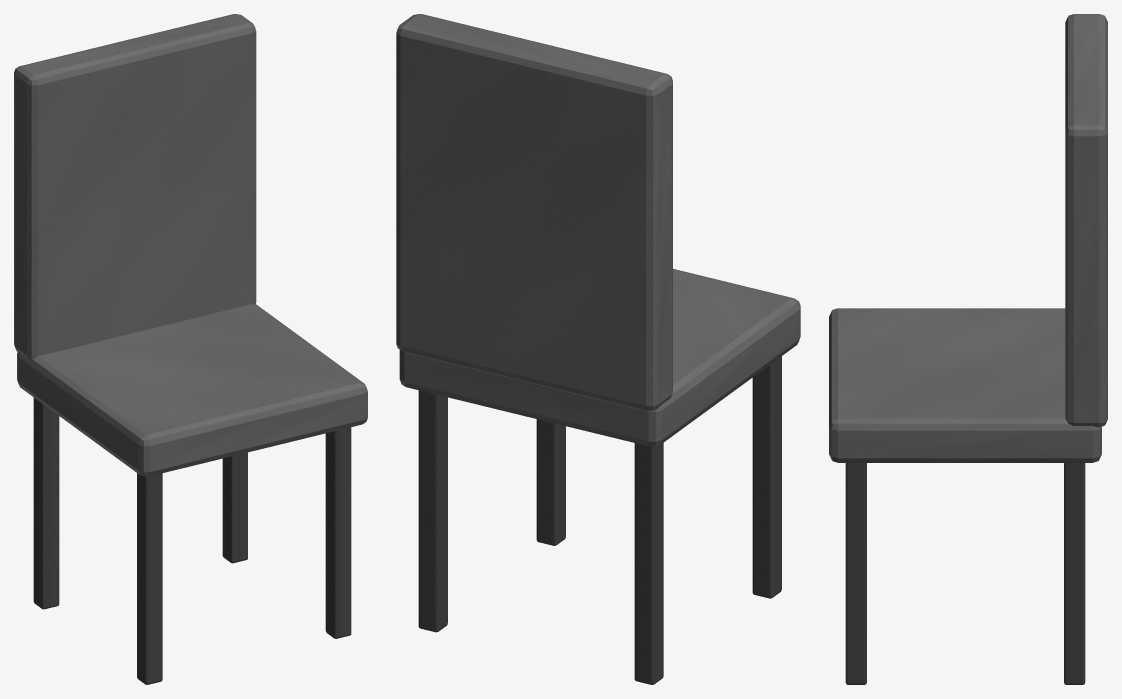
The model's file is briefing_chair.glb.
The picture shows the model from 3 angles, left to right: view 1: azimuth 30°, elevation 25°; view 2: azimuth 150°, elevation 25°; view 3: azimuth 270°, elevation 25°; orthographic projection. The views are drawn at different scales.
Visible parts, largest first — view 1: back.001, seat.001, leg.010, leg.009, leg.008, leg.011; view 2: back.001, seat.001, leg.009, leg.011, leg.008, leg.010; view 3: seat.001, back.001, leg.010, leg.011.
Boxes of the visible parts, bbox=[...] form: back.001: bbox=[14, 14, 256, 358]; seat.001: bbox=[17, 304, 367, 476]; leg.010: bbox=[325, 427, 351, 638]; leg.009: bbox=[33, 397, 59, 609]; leg.008: bbox=[137, 473, 162, 684]; leg.011: bbox=[222, 452, 247, 563]; back.001: bbox=[396, 14, 672, 410]; seat.001: bbox=[399, 269, 800, 446]; leg.009: bbox=[634, 443, 663, 684]; leg.011: bbox=[418, 390, 447, 632]; leg.008: bbox=[752, 356, 781, 598]; leg.010: bbox=[536, 419, 565, 545]; seat.001: bbox=[829, 308, 1101, 462]; back.001: bbox=[1065, 14, 1107, 427]; leg.010: bbox=[845, 463, 866, 684]; leg.011: bbox=[1064, 463, 1085, 684].
Size of the model in its own units: 0.46 by 1.03 by 0.46.
2 materials, 2 textured.
